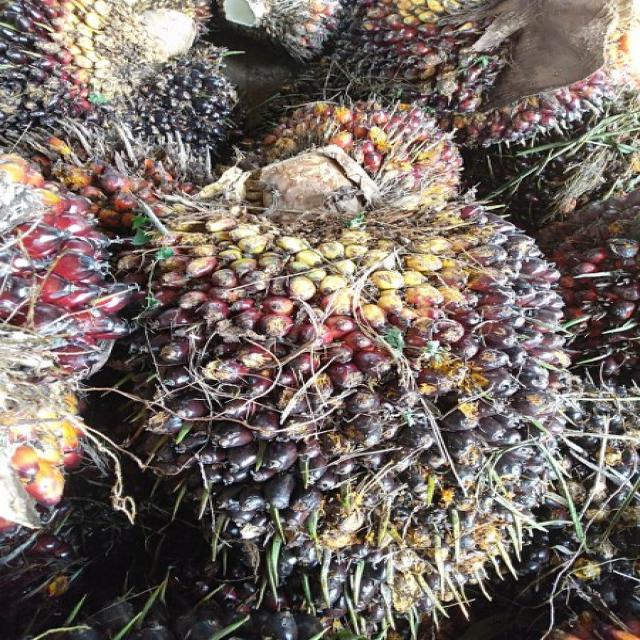fraksi 00: (138, 200, 582, 596)
